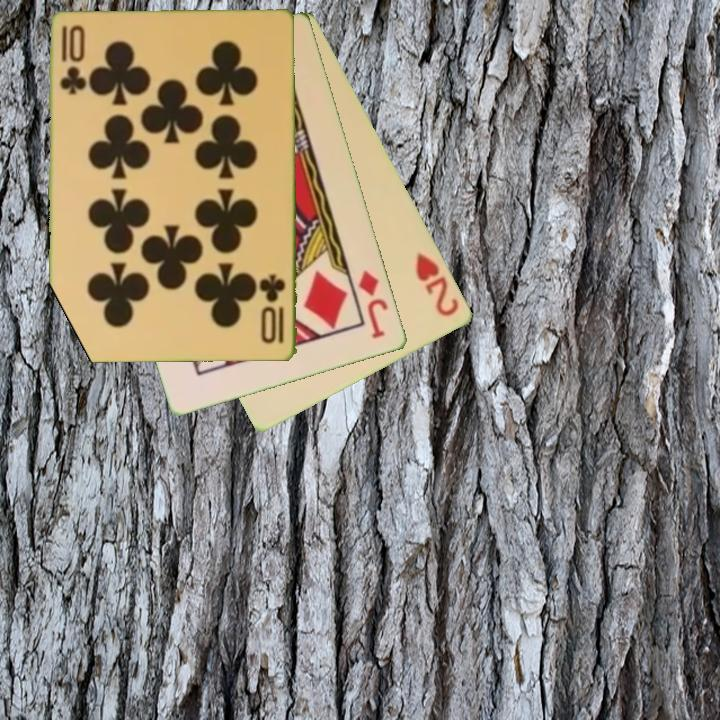10c: (258, 270, 288, 348), (56, 22, 86, 98)
2h: (412, 248, 463, 320)
Jd: (355, 266, 391, 342)
